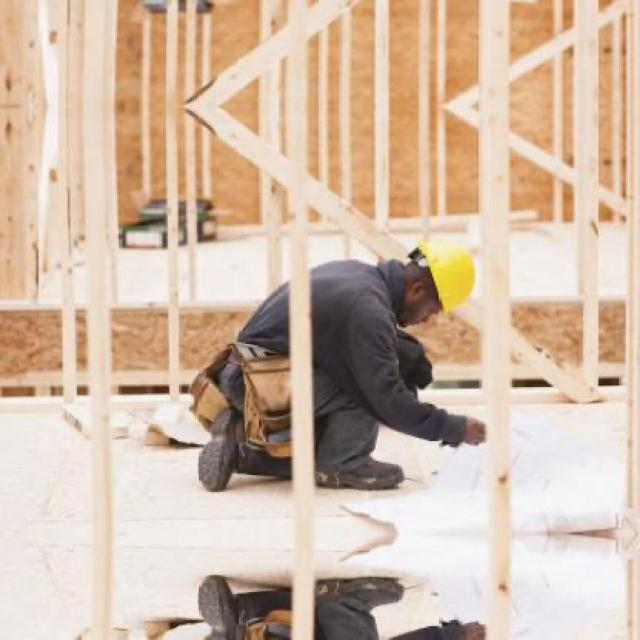con casco: (372, 207, 514, 341)
